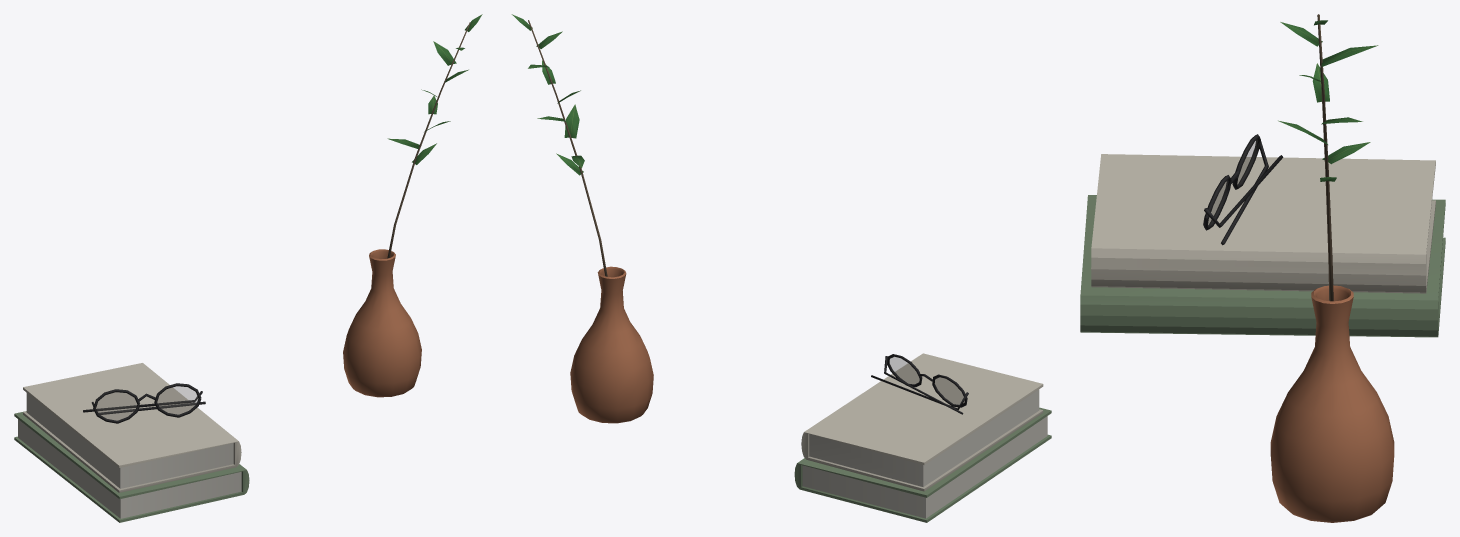
Rendered from decor_d_nightstand_guest_a.gltf.
3 views of the same model, side by side, from view 1: azimuth 30°, elevation 25°; view 2: azimuth 150°, elevation 25°; view 3: azimuth 270°, elevation 25° (orthographic). The views are drawn at different scales.
Visible parts, largest first — view 1: DecorD_Nightstand_Guest_A_Book02_Linen_NoCollide, DecorD_Nightstand_Guest_A_Vase01_Terracotta_NoCollide, DecorD_Nightstand_Guest_A_Book01_Paper_NoCollide, DecorD_Nightstand_Guest_A_Book02_Paper_NoCollide, DecorD_Nightstand_Guest_A_Book01_Sage_NoCollide, DecorD_Nightstand_Guest_A_Spectacles01_Glass_NoCollide, DecorD_Nightstand_Guest_A_Spectacles01_Black_NoCollide, DecorD_Nightstand_Guest_A_Leaf_NoCollide, DecorD_Nightstand_Guest_A_Bark_NoCollide; view 2: DecorD_Nightstand_Guest_A_Book02_Linen_NoCollide, DecorD_Nightstand_Guest_A_Vase01_Terracotta_NoCollide, DecorD_Nightstand_Guest_A_Book01_Paper_NoCollide, DecorD_Nightstand_Guest_A_Book02_Paper_NoCollide, DecorD_Nightstand_Guest_A_Book01_Sage_NoCollide, DecorD_Nightstand_Guest_A_Leaf_NoCollide, DecorD_Nightstand_Guest_A_Spectacles01_Black_NoCollide, DecorD_Nightstand_Guest_A_Spectacles01_Glass_NoCollide, DecorD_Nightstand_Guest_A_Bark_NoCollide; view 3: DecorD_Nightstand_Guest_A_Book02_Linen_NoCollide, DecorD_Nightstand_Guest_A_Vase01_Terracotta_NoCollide, DecorD_Nightstand_Guest_A_Book01_Sage_NoCollide, DecorD_Nightstand_Guest_A_Spectacles01_Black_NoCollide, DecorD_Nightstand_Guest_A_Leaf_NoCollide, DecorD_Nightstand_Guest_A_Bark_NoCollide, DecorD_Nightstand_Guest_A_Spectacles01_Glass_NoCollide.
Boxes of the visible parts, x1,y1,x2,y2 form: DecorD_Nightstand_Guest_A_Book02_Linen_NoCollide: (23, 363, 241, 492); DecorD_Nightstand_Guest_A_Vase01_Terracotta_NoCollide: (343, 249, 421, 397); DecorD_Nightstand_Guest_A_Book01_Paper_NoCollide: (18, 419, 241, 518); DecorD_Nightstand_Guest_A_Book02_Paper_NoCollide: (26, 393, 233, 488); DecorD_Nightstand_Guest_A_Book01_Sage_NoCollide: (14, 411, 249, 522); DecorD_Nightstand_Guest_A_Spectacles01_Glass_NoCollide: (96, 386, 198, 420); DecorD_Nightstand_Guest_A_Spectacles01_Black_NoCollide: (83, 383, 205, 423); DecorD_Nightstand_Guest_A_Leaf_NoCollide: (387, 14, 482, 164); DecorD_Nightstand_Guest_A_Bark_NoCollide: (387, 22, 470, 258); DecorD_Nightstand_Guest_A_Book02_Linen_NoCollide: (801, 353, 1043, 491); DecorD_Nightstand_Guest_A_Vase01_Terracotta_NoCollide: (570, 266, 653, 423); DecorD_Nightstand_Guest_A_Book01_Paper_NoCollide: (802, 416, 1047, 518); DecorD_Nightstand_Guest_A_Book02_Paper_NoCollide: (809, 389, 1039, 486); DecorD_Nightstand_Guest_A_Book01_Sage_NoCollide: (794, 407, 1051, 522); DecorD_Nightstand_Guest_A_Leaf_NoCollide: (511, 14, 584, 175); DecorD_Nightstand_Guest_A_Spectacles01_Black_NoCollide: (871, 354, 968, 414); DecorD_Nightstand_Guest_A_Spectacles01_Glass_NoCollide: (889, 357, 964, 404); DecorD_Nightstand_Guest_A_Bark_NoCollide: (528, 20, 607, 276); DecorD_Nightstand_Guest_A_Book02_Linen_NoCollide: (1091, 154, 1435, 293); DecorD_Nightstand_Guest_A_Vase01_Terracotta_NoCollide: (1270, 285, 1394, 522); DecorD_Nightstand_Guest_A_Book01_Sage_NoCollide: (1080, 195, 1445, 337); DecorD_Nightstand_Guest_A_Spectacles01_Black_NoCollide: (1203, 134, 1283, 245); DecorD_Nightstand_Guest_A_Leaf_NoCollide: (1278, 20, 1378, 181); DecorD_Nightstand_Guest_A_Bark_NoCollide: (1317, 14, 1333, 301); DecorD_Nightstand_Guest_A_Spectacles01_Glass_NoCollide: (1206, 140, 1257, 225).
Bounding box in the file's own units: 0.5308 × 0.4043 × 0.2399.
8 materials, 1 textured.
